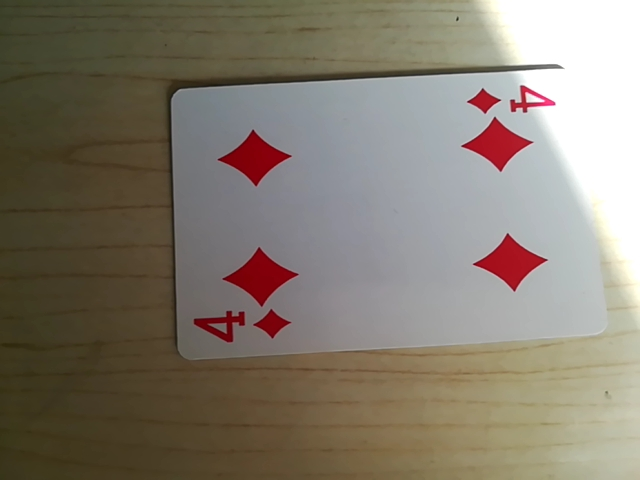fk 4: (187, 304, 292, 356), (468, 76, 565, 120)
